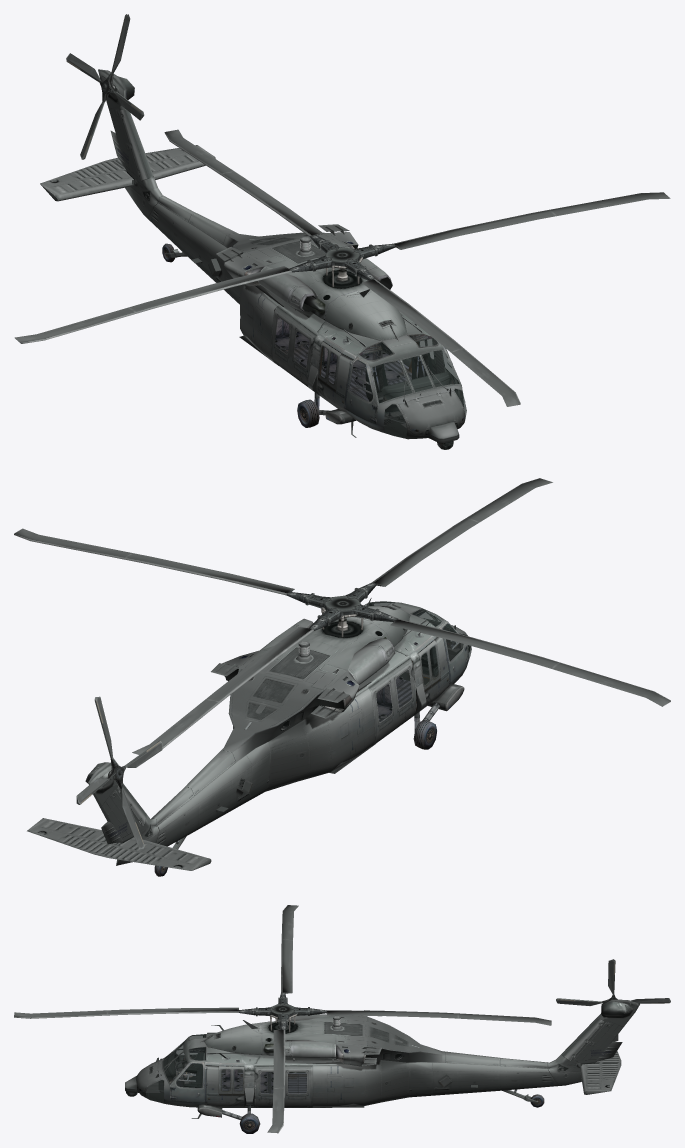
3 renders of one model, top to bottom at view 1: azimuth 30°, elevation 25°; view 2: azimuth 150°, elevation 25°; view 3: azimuth 270°, elevation 25°, orthographic. The views are drawn at different scales.
Parts seen in each view (by area): view 1: UH-60, Mrotor, InsideM, UHTail, DBackM, RBack, DoorF2; view 2: UH-60, Mrotor, UHTail, DBackM, RBack, InsideM; view 3: UH-60, Mrotor, InsideM, DBackM1, DoorF1, UHTail, RBack, DSmall3, DSmall4.
Part boxes in pixels (left/top/right/bottom): UH-60: left=98, top=69, right=466, bottom=449; Mrotor: left=14, top=129, right=670, bottom=406; InsideM: left=270, top=308, right=463, bottom=427; UHTail: left=40, top=145, right=215, bottom=201; DBackM: left=271, top=304, right=317, bottom=386; RBack: left=66, top=14, right=144, bottom=159; DoorF2: left=345, top=356, right=377, bottom=424; UH-60: left=85, top=598, right=471, bottom=865; Mrotor: left=14, top=478, right=670, bottom=754; UHTail: left=27, top=818, right=211, bottom=870; DBackM: left=367, top=655, right=416, bottom=746; RBack: left=76, top=696, right=162, bottom=848; InsideM: left=376, top=609, right=463, bottom=721; UH-60: left=125, top=999, right=639, bottom=1118; Mrotor: left=14, top=905, right=551, bottom=1133; InsideM: left=146, top=1034, right=306, bottom=1106; DBackM1: left=254, top=1063, right=312, bottom=1107; DoorF1: left=169, top=1061, right=204, bottom=1102; UHTail: left=580, top=1051, right=621, bottom=1094; RBack: left=556, top=959, right=670, bottom=1041; DSmall3: left=219, top=1062, right=232, bottom=1095; DSmall4: left=232, top=1063, right=244, bottom=1095.
Bounding box in the file's own units: 1157 × 1413 × 372.
4 materials, 3 textured.
